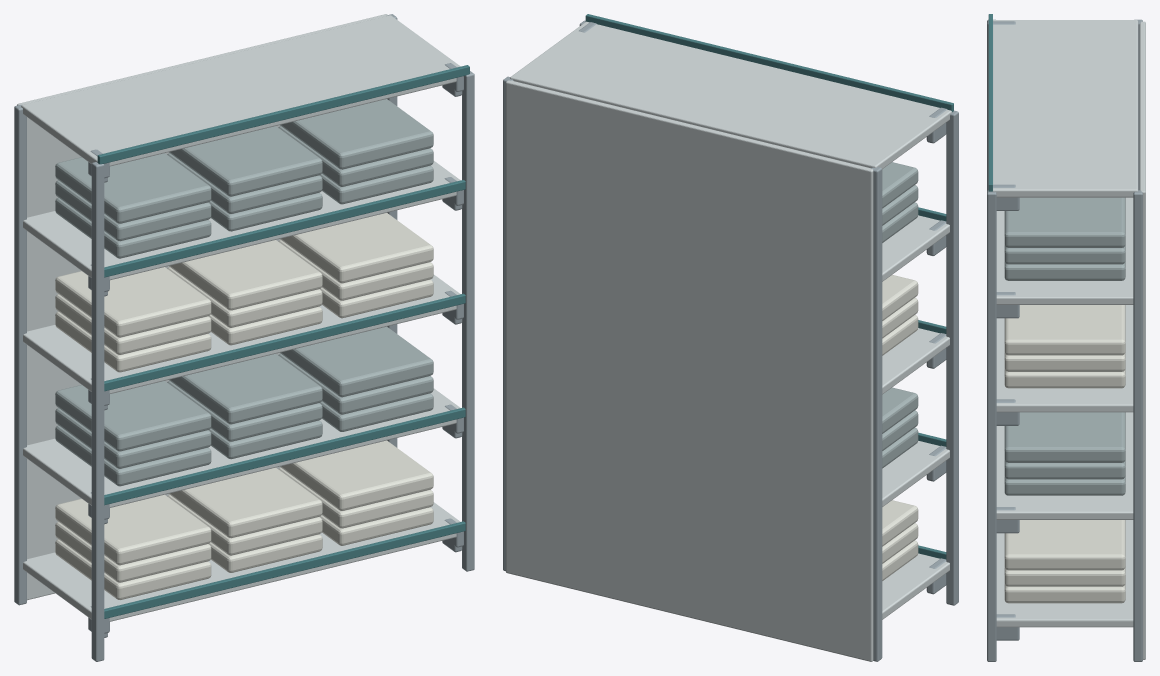
Rendered from SF_LinenRack.fbx.
3 views of the same model, side by side, from view 1: azimuth 30°, elevation 25°; view 2: azimuth 150°, elevation 25°; view 3: azimuth 270°, elevation 25° (orthographic). The views are drawn at different scales.
Visible parts, largest first — view 1: SF_LinenRack; view 2: SF_LinenRack; view 3: SF_LinenRack.
Boxes of the visible parts, bbox=[...] form: SF_LinenRack: bbox=[14, 14, 474, 661]; SF_LinenRack: bbox=[503, 14, 958, 661]; SF_LinenRack: bbox=[987, 14, 1145, 661].
Bounding box in the file's own units: 164 × 208 × 62.95.
